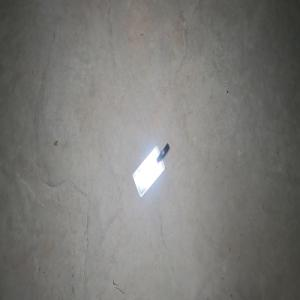LuggageTag: (131, 142, 169, 198)
